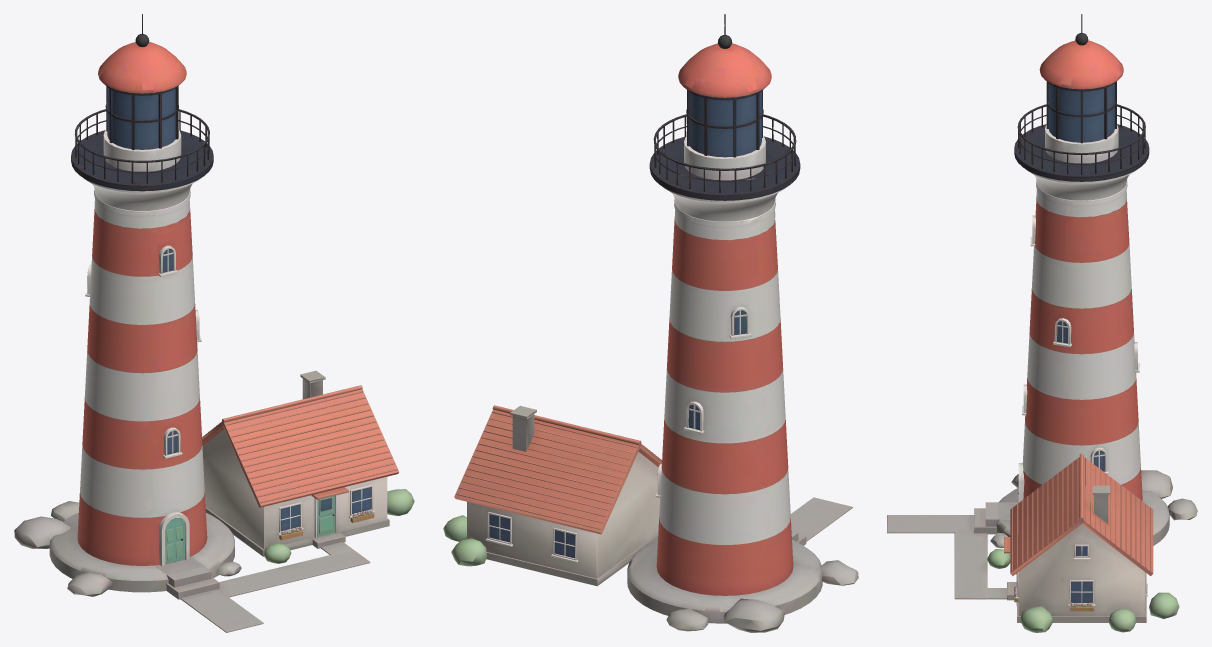
Rendered from lighthouse.glb.
3 views of the same model, side by side, from view 1: azimuth 30°, elevation 25°; view 2: azimuth 150°, elevation 25°; view 3: azimuth 270°, elevation 25° (orthographic). The views are drawn at different scales.
Parts seen in each view (by area): view 1: lighthouse_body; view 2: lighthouse_body; view 3: lighthouse_body.
Boxes of the visible parts, bbox=[...] form: lighthouse_body: bbox=[14, 14, 414, 632]; lighthouse_body: bbox=[443, 14, 858, 632]; lighthouse_body: bbox=[887, 14, 1197, 632].
Size of the model in its own units: 18.49 by 27.5 by 15.17.
Materials: 1 (1 with a texture image).
